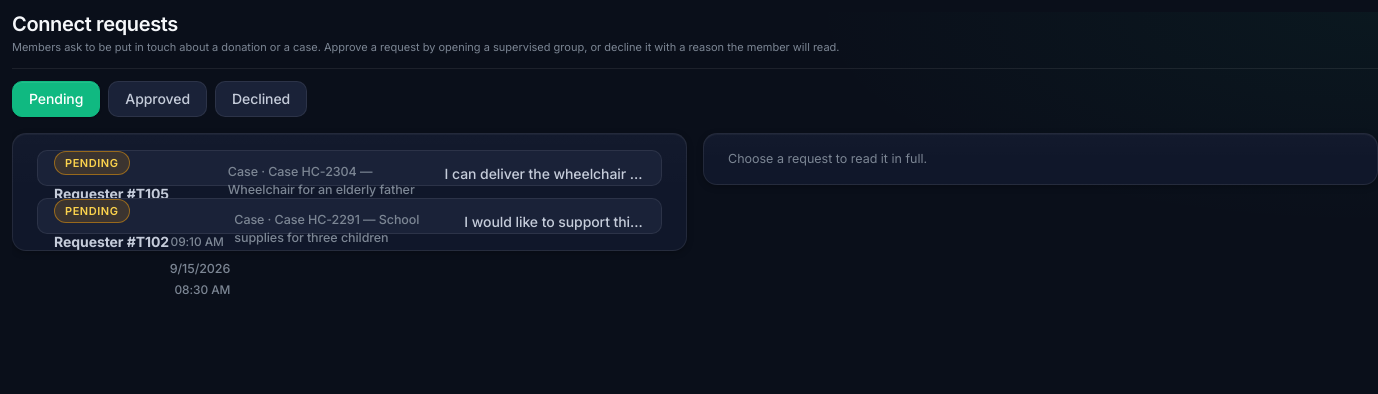
ConnectRequestsPage › opens a declined request with its reason and no actions, and never shows target_hint
Expected: the list named "Connect requests" is shown, [37,150,662,234]
Click the button "Declined": click(261, 98) [215,80,307,116]
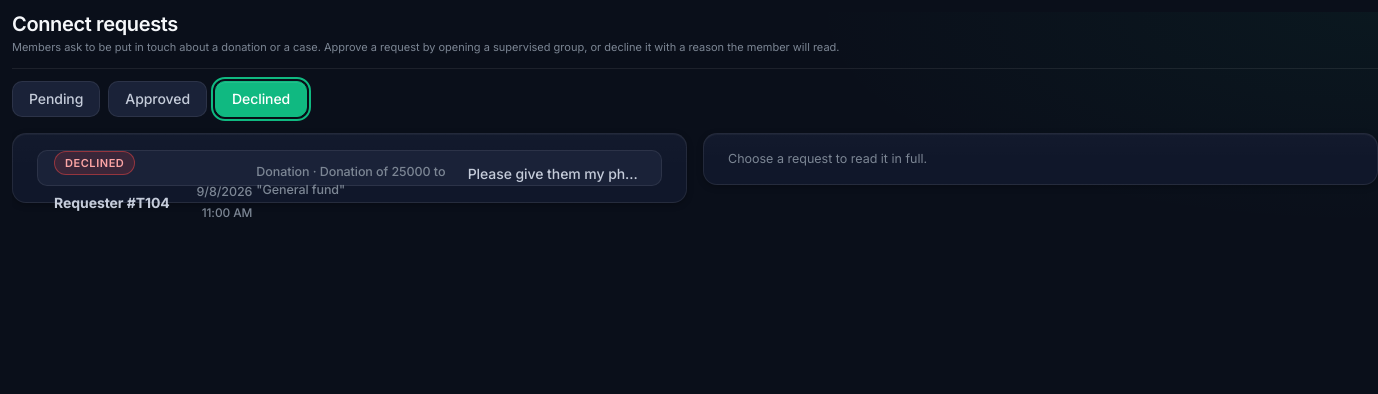
Click the button named "Please give them my phone number": click(350, 168) [37,150,662,186]
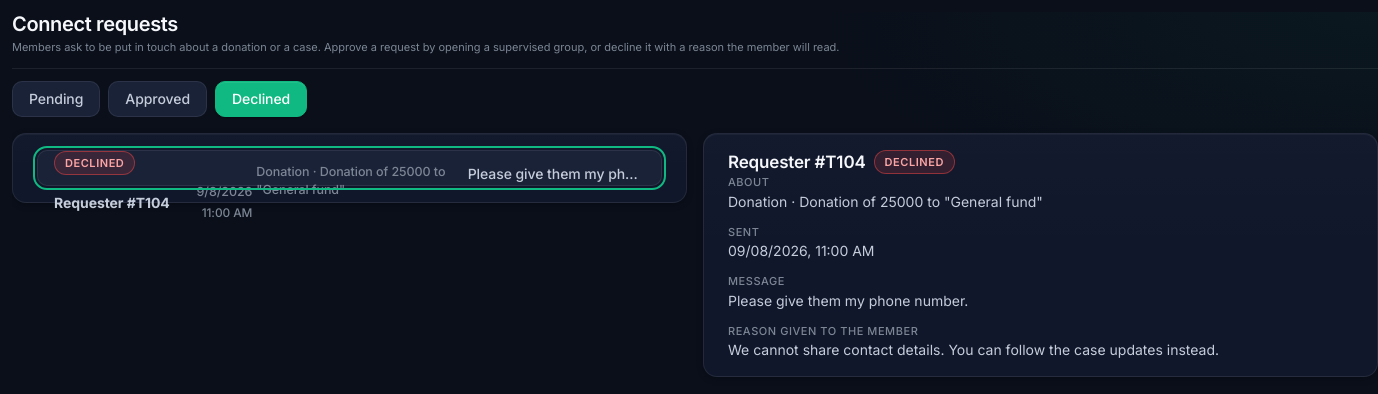
Expected: the element named "Request details" does not show "103", [703,132,1377,377]
Now the text "We cannot share contact details" is shown, box [728,341,1219,358]
